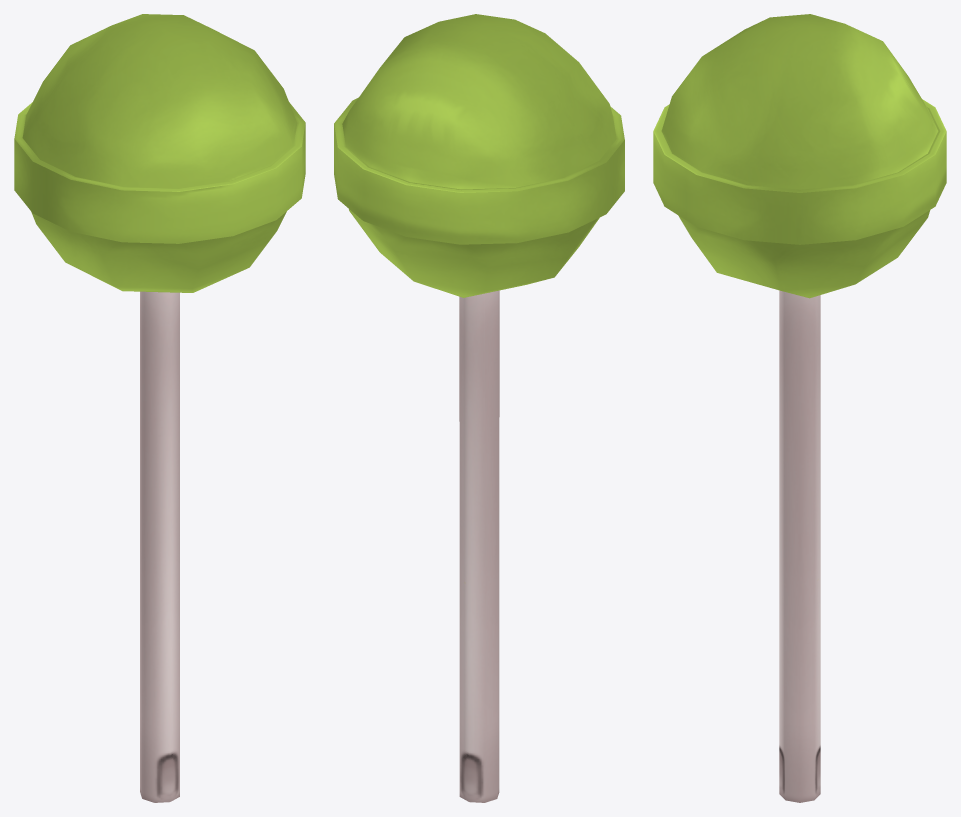
Rendered from Lolipop2.glb.
The picture shows the model from 3 angles, left to right: view 1: azimuth 30°, elevation 25°; view 2: azimuth 150°, elevation 25°; view 3: azimuth 270°, elevation 25°; orthographic projection.
Visible parts, largest first — view 1: Object_9.003; view 2: Object_9.003; view 3: Object_9.003.
Part boxes in pixels (x1,y1,x2,y2): Object_9.003: (14,14,305,802); Object_9.003: (334,14,624,802); Object_9.003: (653,14,946,802).
Size of the model in its own units: 0.0752 by 0.2174 by 0.0752.
1 material, 1 textured.
